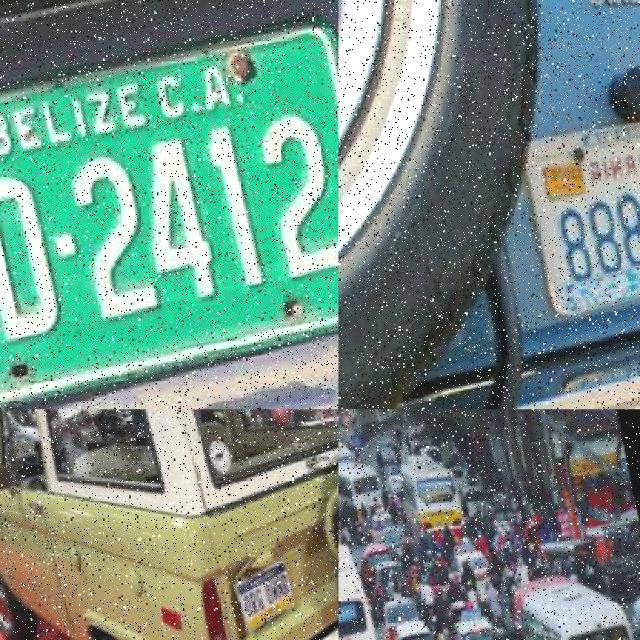licenseplate: (0, 37, 338, 400), (534, 114, 640, 297), (231, 560, 292, 634), (474, 574, 484, 592), (501, 522, 512, 535), (394, 546, 401, 557), (472, 502, 479, 511)
